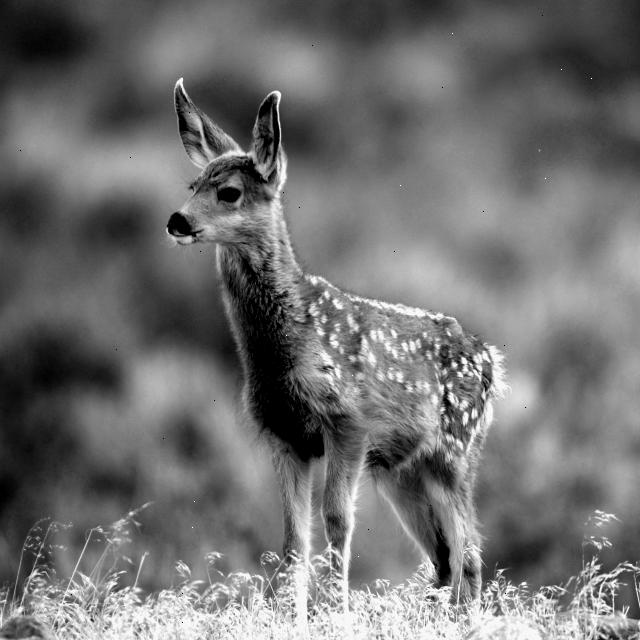deer: (141, 64, 511, 626)
